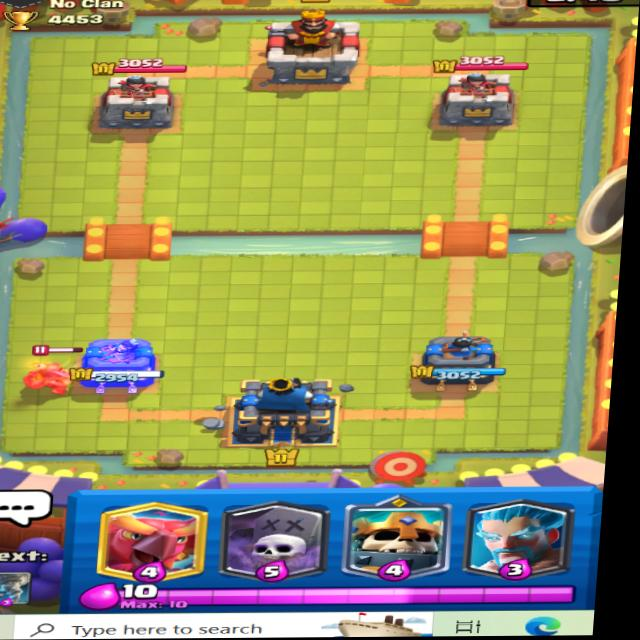Miner: (13, 344, 85, 400)
